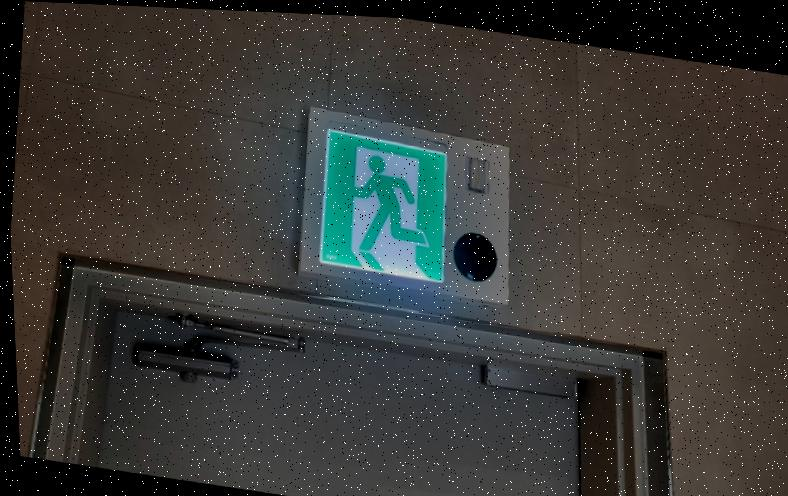emergency_exit: (297, 106, 511, 307), (317, 127, 449, 284)
